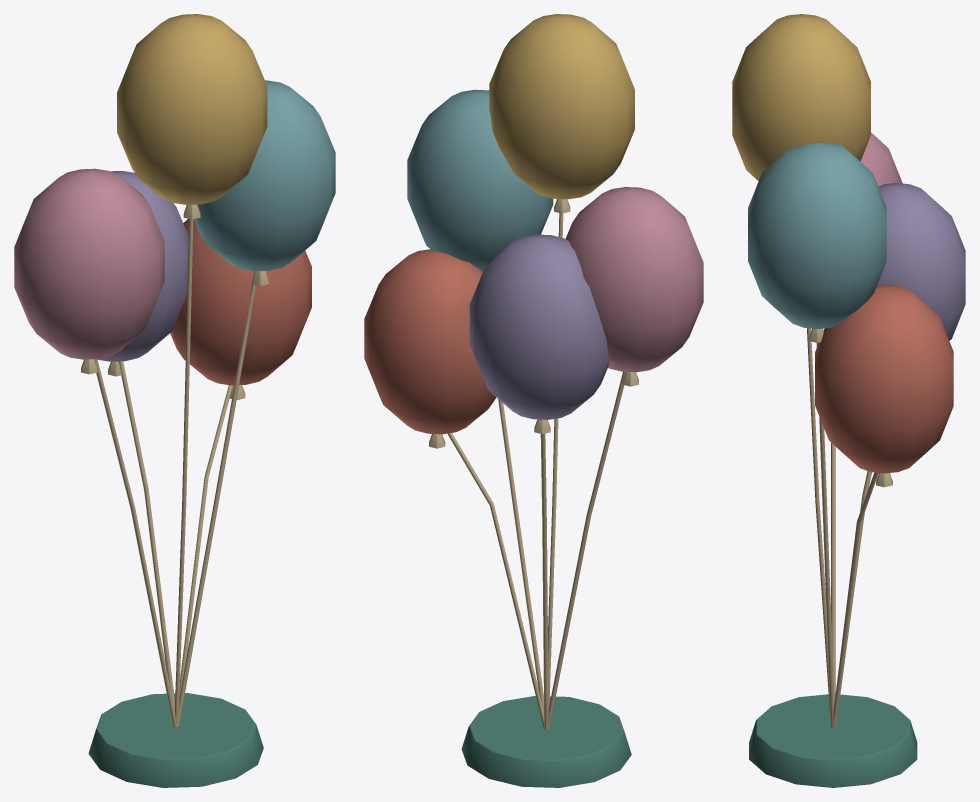
The model's file is birthday_balloons.glb.
3 views of the same model, side by side, from view 1: azimuth 30°, elevation 25°; view 2: azimuth 150°, elevation 25°; view 3: azimuth 270°, elevation 25° (orthographic). The views are drawn at different scales.
Size of the model in its own units: 0.8802 by 2.05 by 0.5917.
